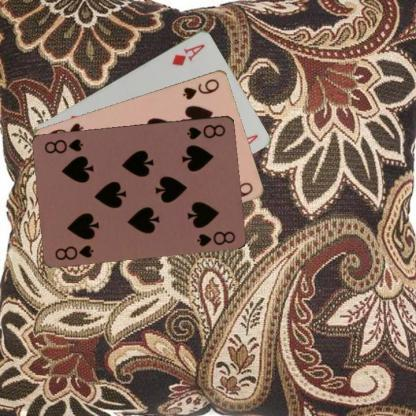8s: (52, 242, 95, 261), (184, 122, 227, 140)
9s: (180, 76, 221, 101)
Ad: (169, 40, 206, 67)
